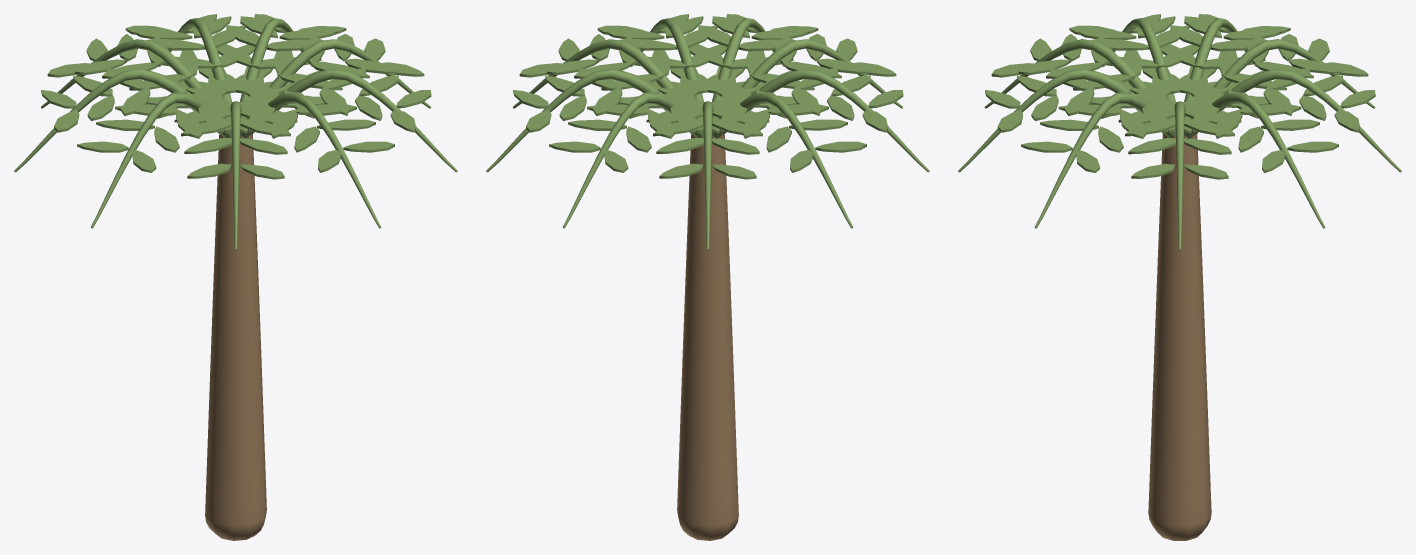
The model's file is fern.glb.
3 views of the same model, side by side, from view 1: azimuth 30°, elevation 25°; view 2: azimuth 150°, elevation 25°; view 3: azimuth 270°, elevation 25° (orthographic).
Visible parts, largest first — view 1: tree-fern; view 2: tree-fern; view 3: tree-fern.
Part boxes in pixels (x1=…): tree-fern: x1=14, y1=14, x2=457, y2=540; tree-fern: x1=486, y1=14, x2=929, y2=540; tree-fern: x1=958, y1=14, x2=1401, y2=540.
Size of the model in its own units: 1.97 by 2.37 by 2.
